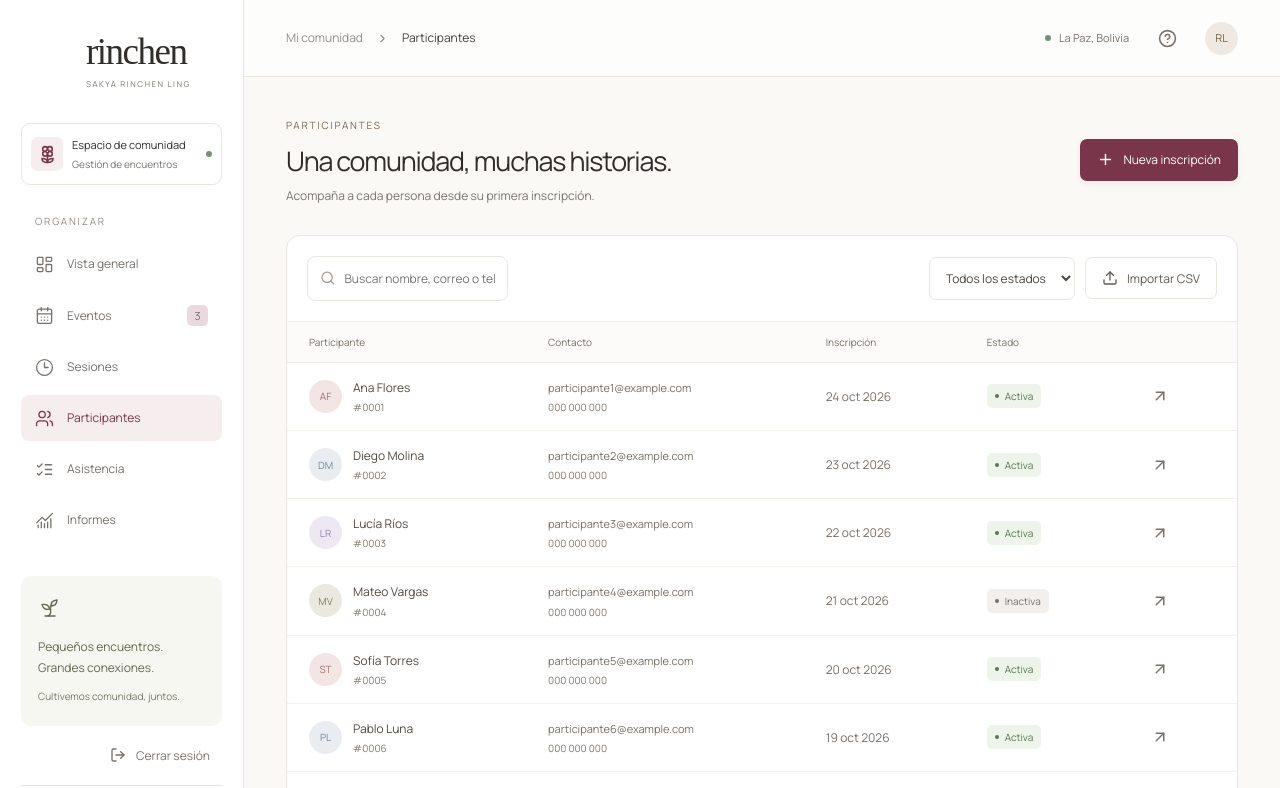
Scenario: React management views › filters participants by accent-insensitive search and activation state
This screenshot has width=1280, height=788.
Type "lucia" into the field labelled "Buscar nombre, correo o teléfono…" at (420, 278), box [344, 257, 495, 300]
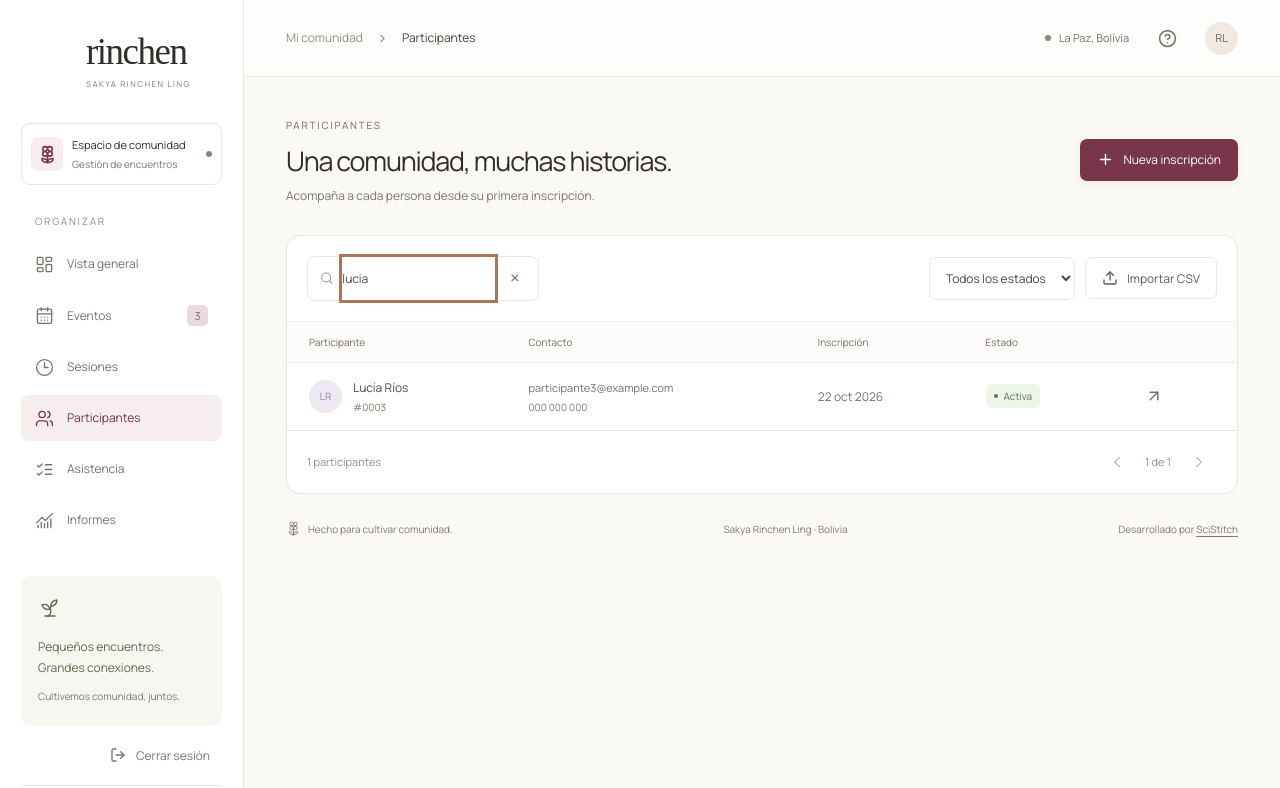
Expected: the text "Lucía Ríos" is shown, [353, 379, 408, 396]
Result: the text "Ana Flores" is gone
Select "Inactivas" in the dropdown named "Estado de inscripción" at (1002, 278), box [929, 257, 1075, 300]
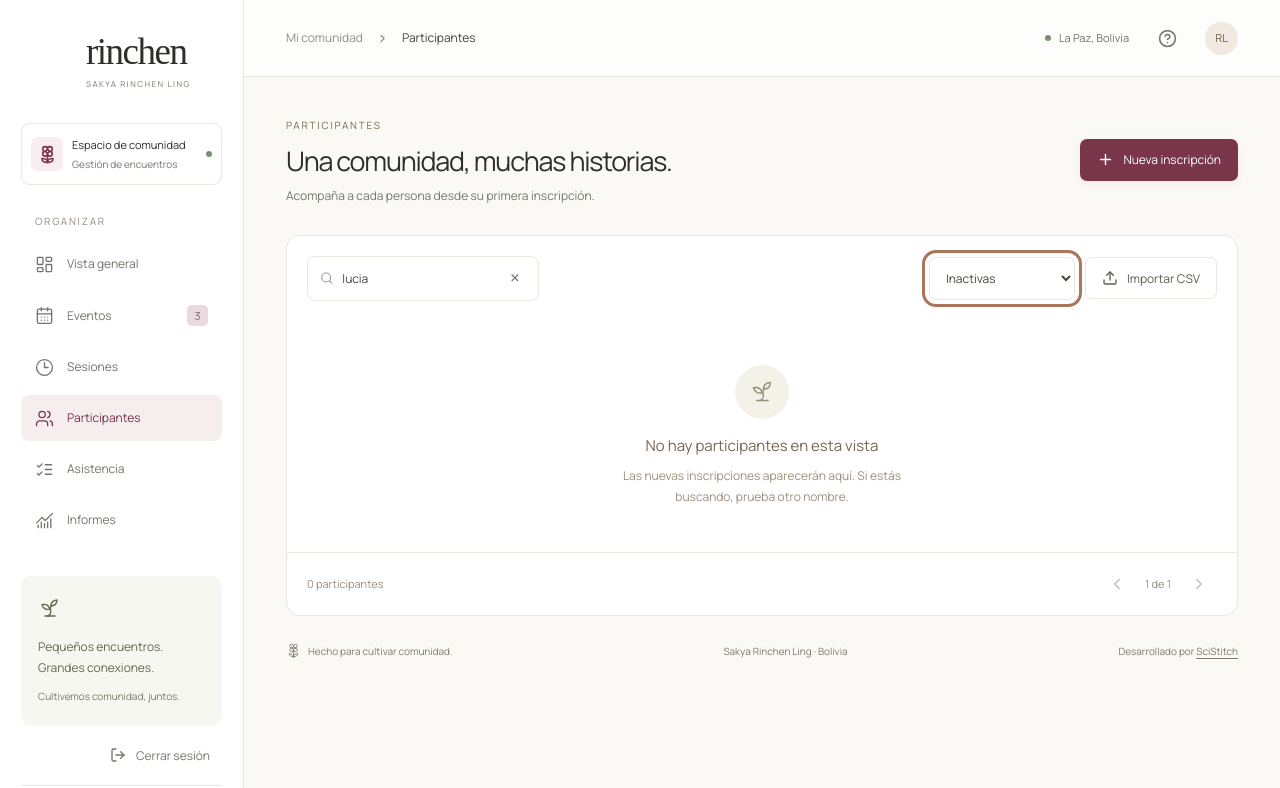
Result: the heading "No hay participantes en esta vista" is shown at [646, 434, 878, 458]
Click the button named "Limpiar búsqueda" at (515, 278), box [504, 260, 526, 296]
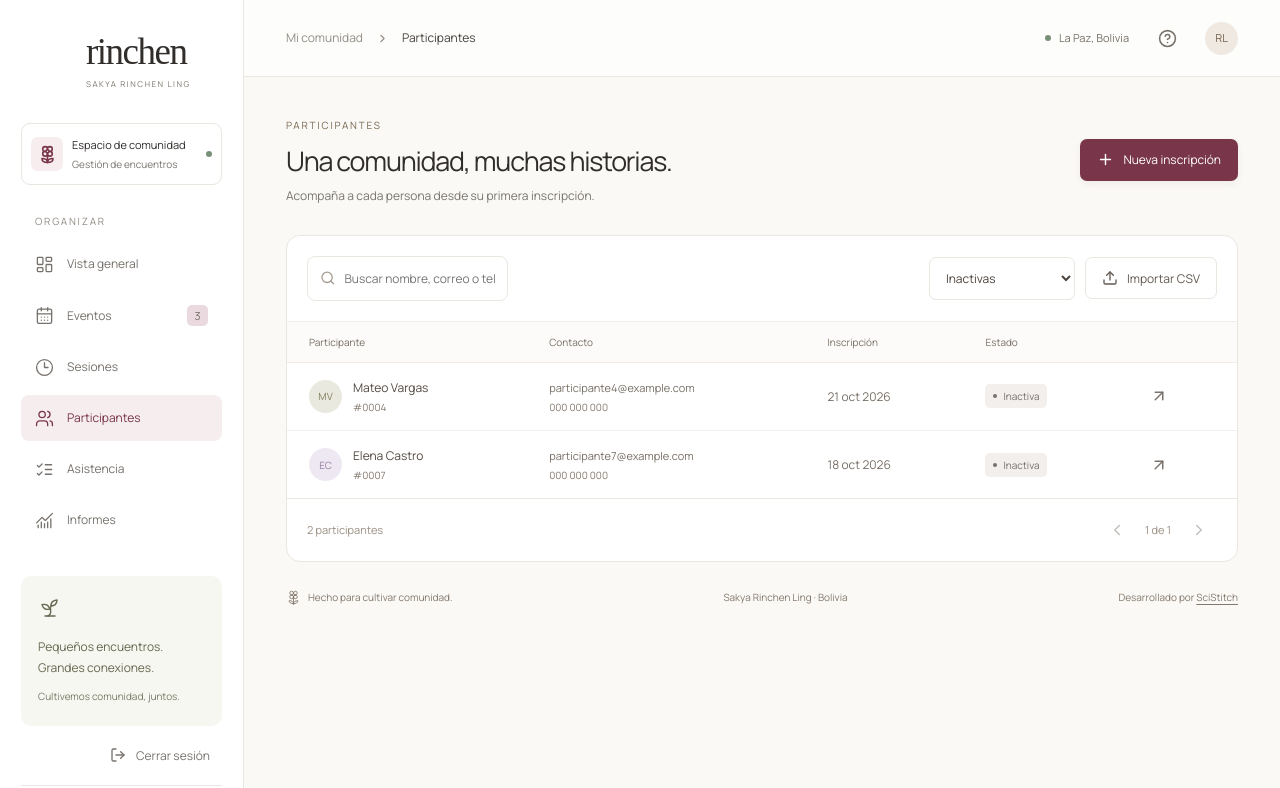
Result: the text "Mateo Vargas" is shown at [353, 379, 428, 396]
